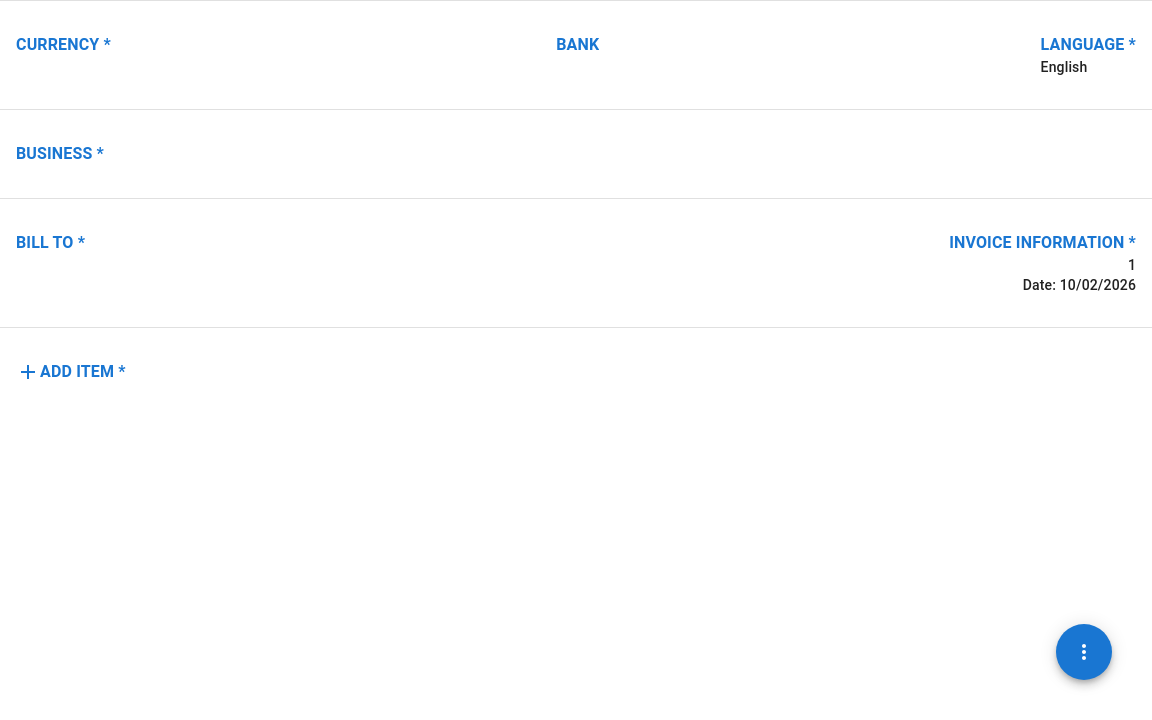
Test: InvoiceForm › selects an item from the items dropdown and adds it to the invoice
Click the button "ADD ITEM *".
click(71, 372)  # box [16,360,126,384]
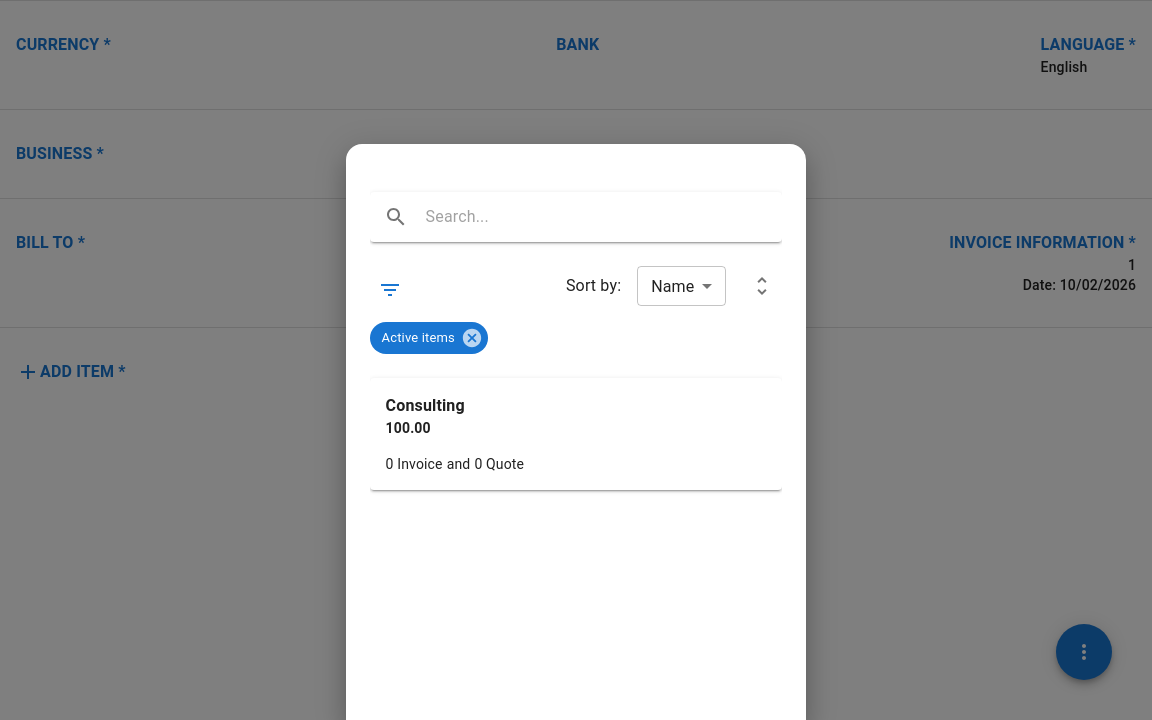
Click the text "Consulting".
click(425, 406)  # box [386,396,465,415]
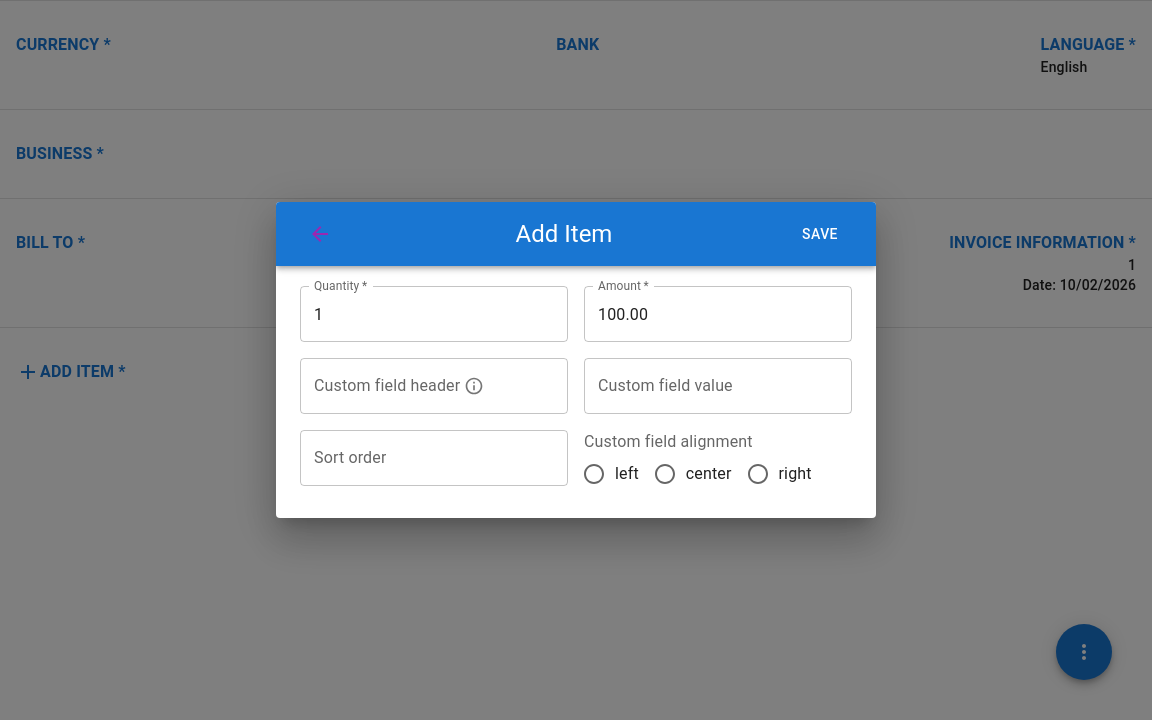
Now the button "Save" is enabled, box [788,216,852,252]
